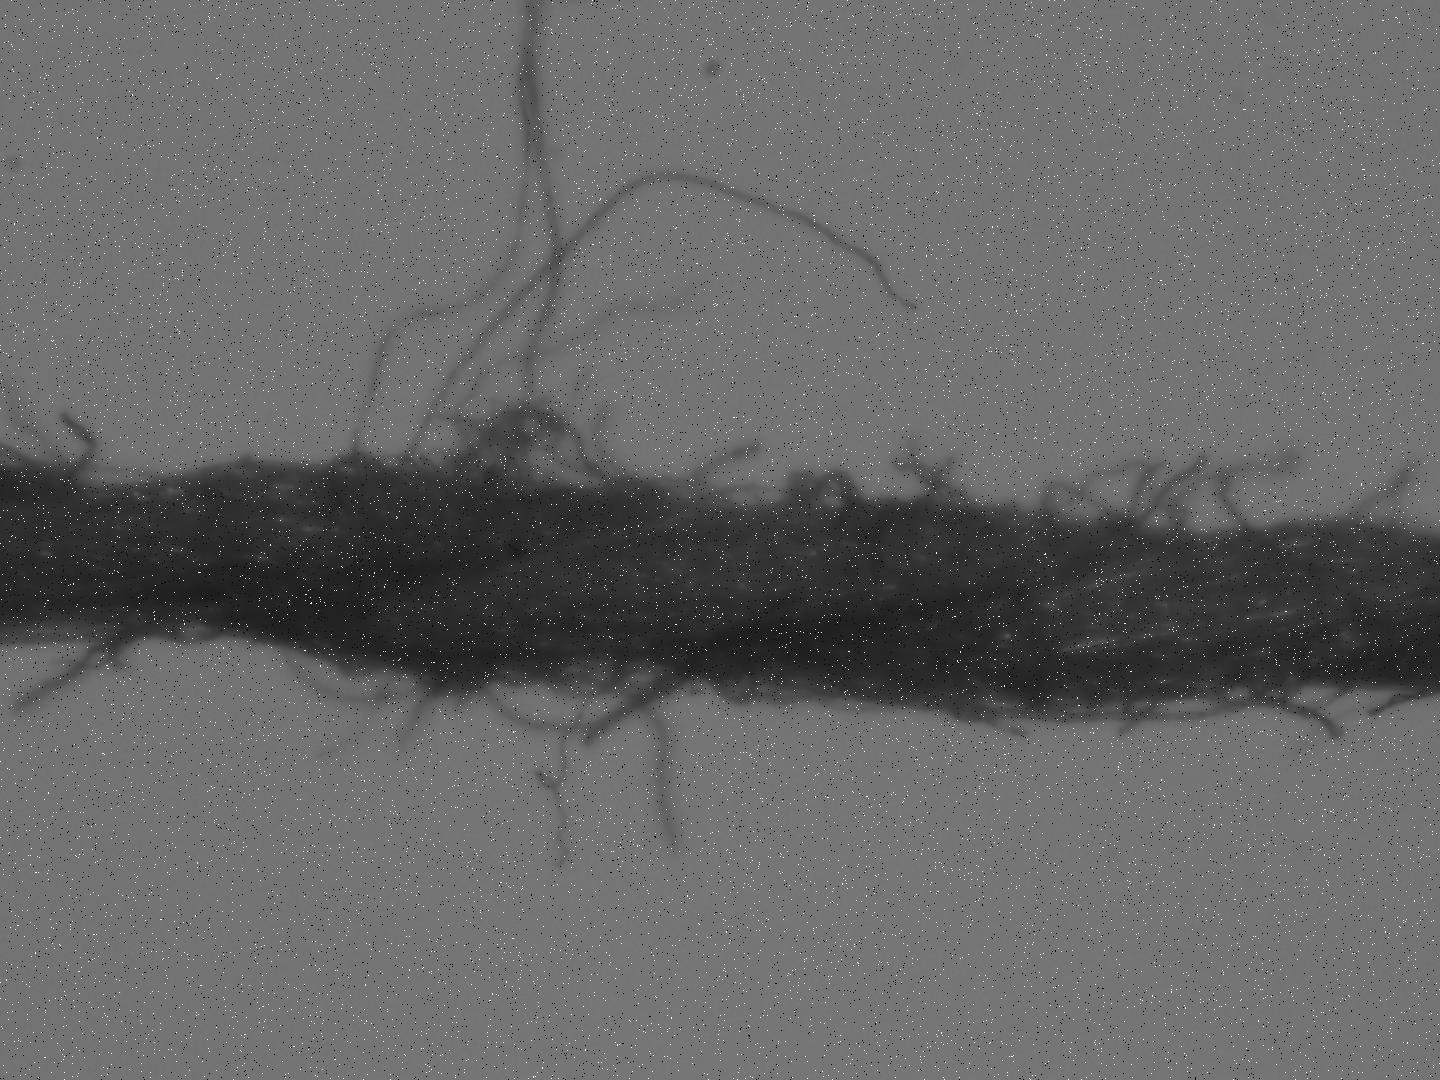loop_fiber: (346, 6, 565, 481), (472, 661, 706, 744), (268, 634, 484, 706), (443, 410, 629, 490)
protruding_fiber: (399, 166, 933, 473), (556, 664, 693, 850), (528, 659, 630, 879), (12, 627, 154, 719), (56, 410, 102, 491)
